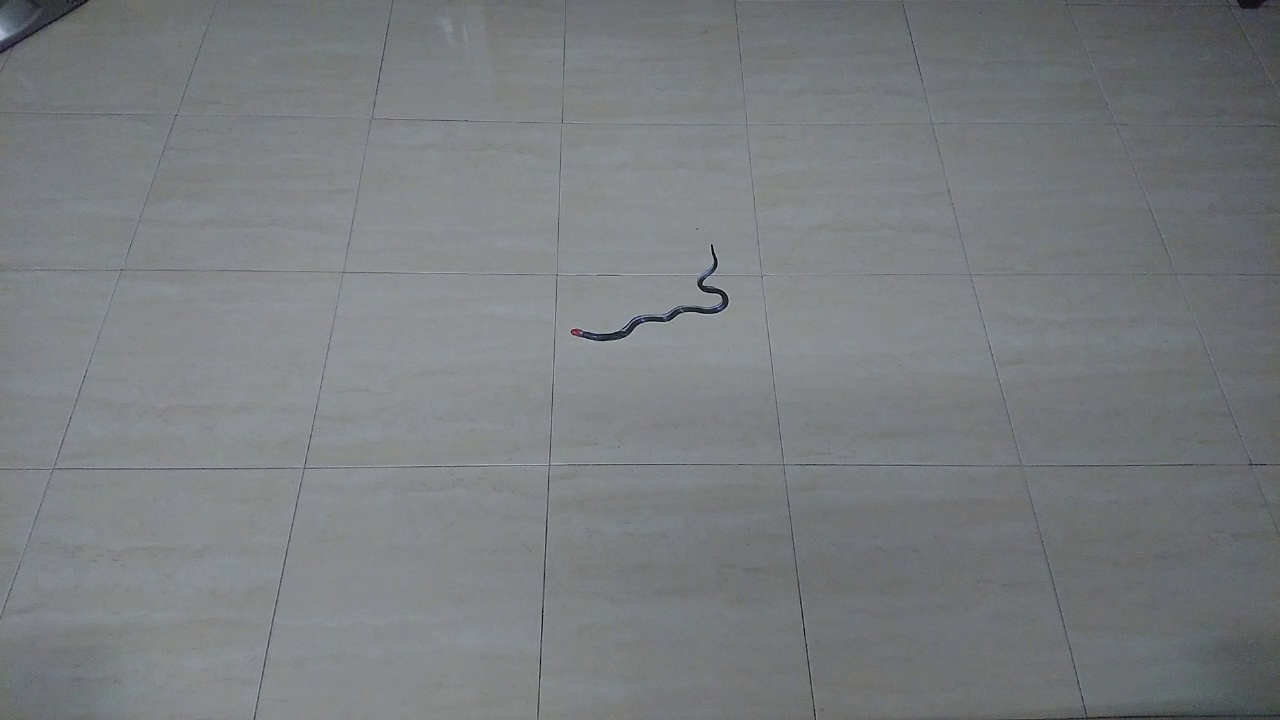snake: (561, 231, 739, 349)
